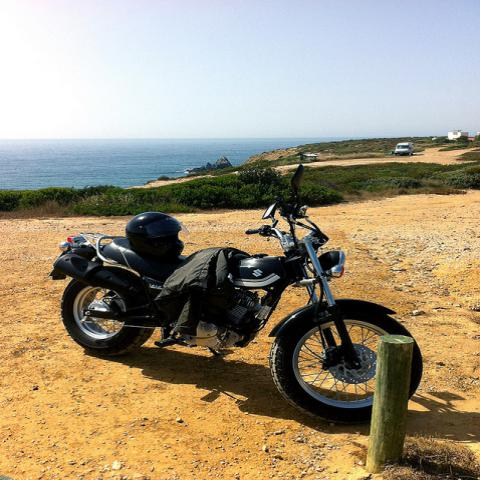car: (393, 142, 415, 156)
motorcycle: (48, 161, 428, 424)
truck: (393, 142, 415, 157)
